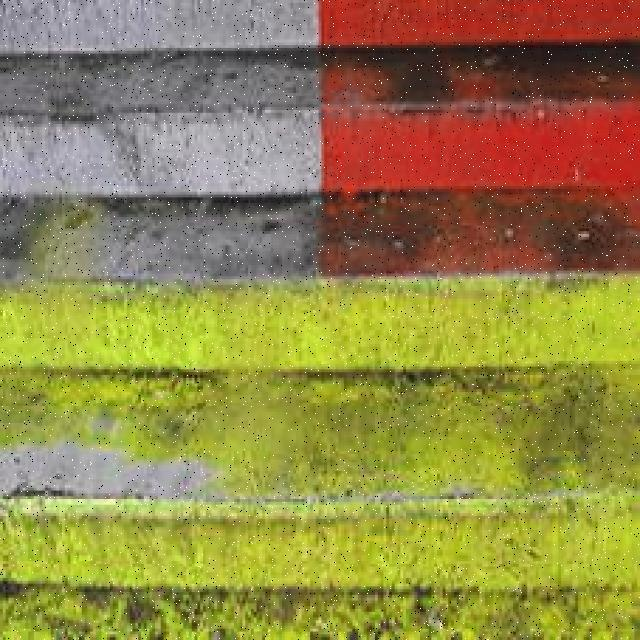Stairs: (19, 23, 619, 627)
